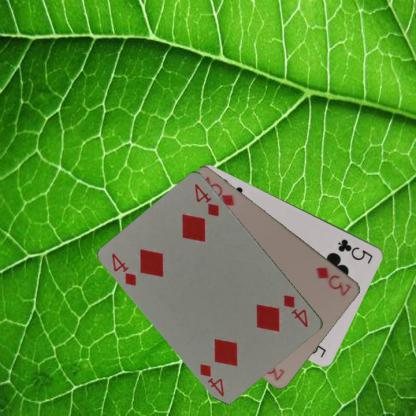3d: (314, 264, 352, 298)
4d: (280, 292, 310, 329), (109, 250, 138, 288)
5c: (335, 236, 375, 265)
